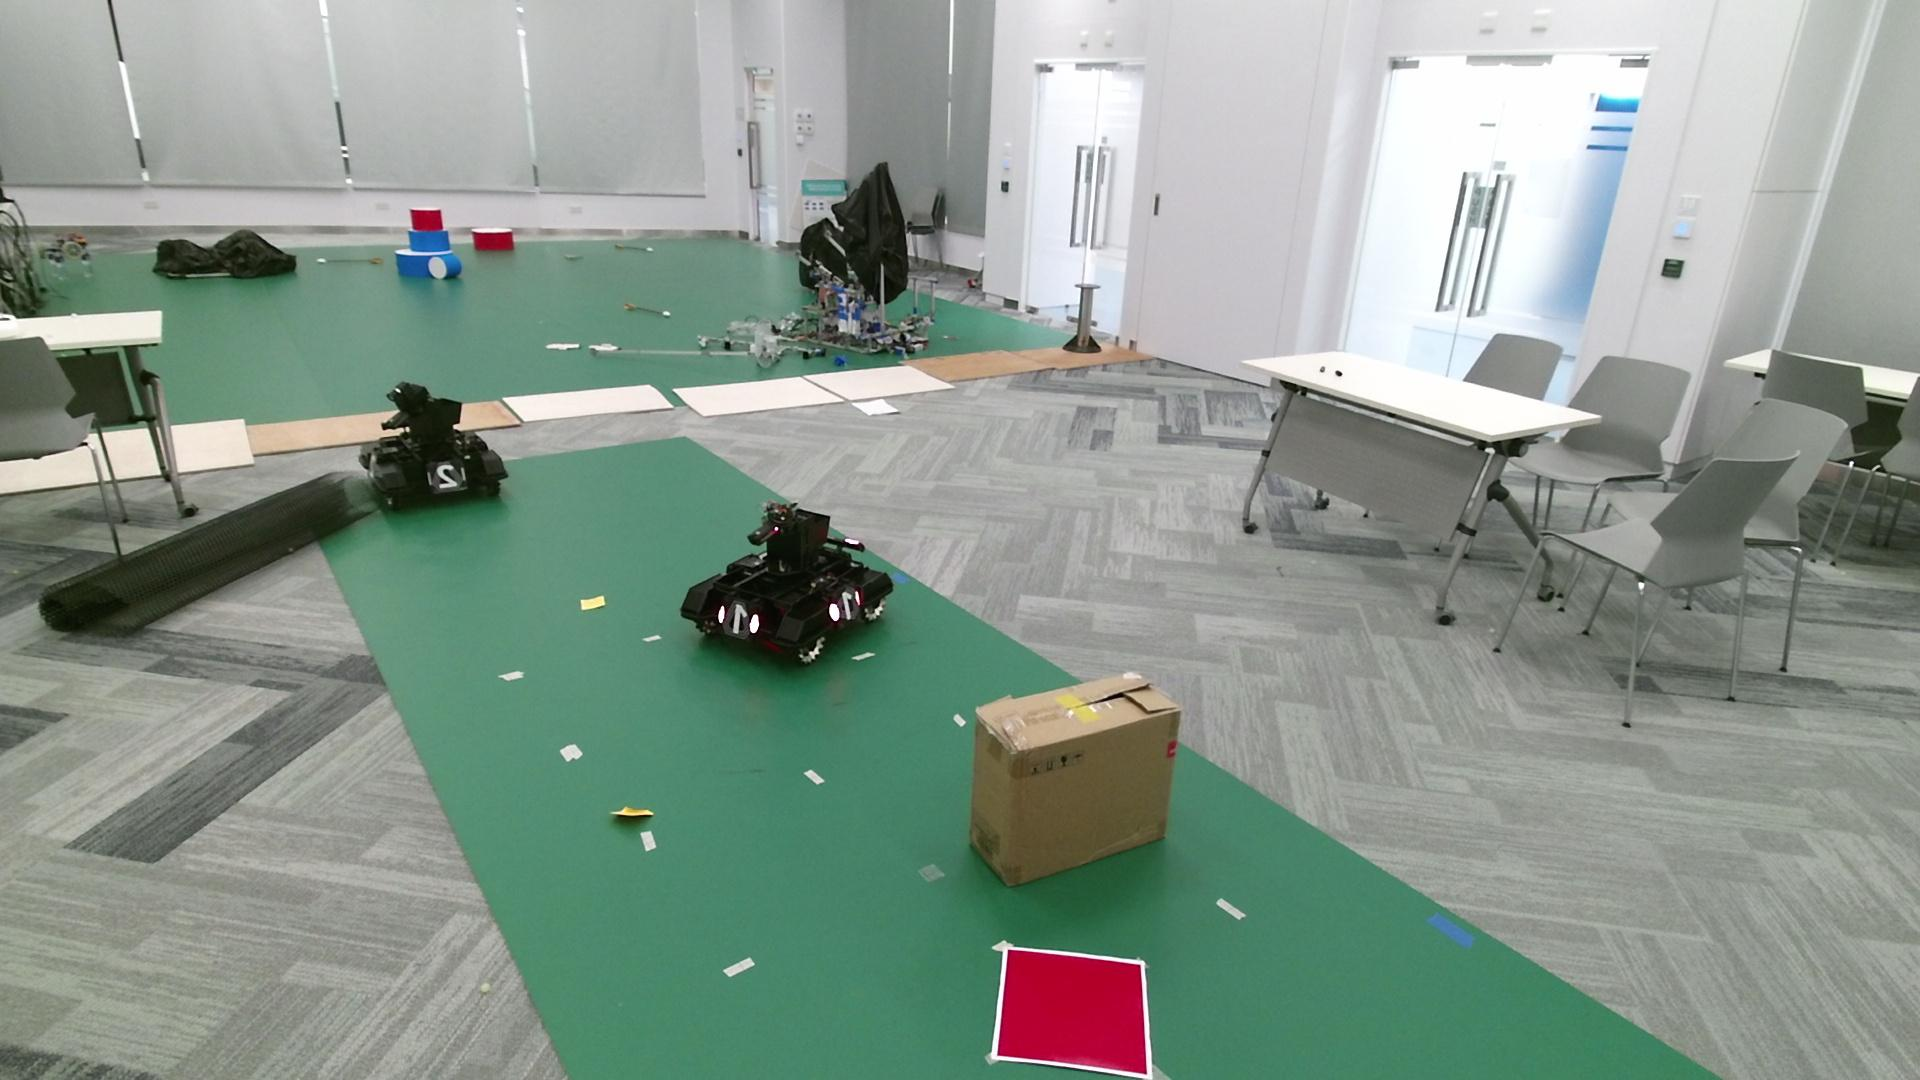robot: (679, 500, 894, 665), (357, 380, 508, 509)
